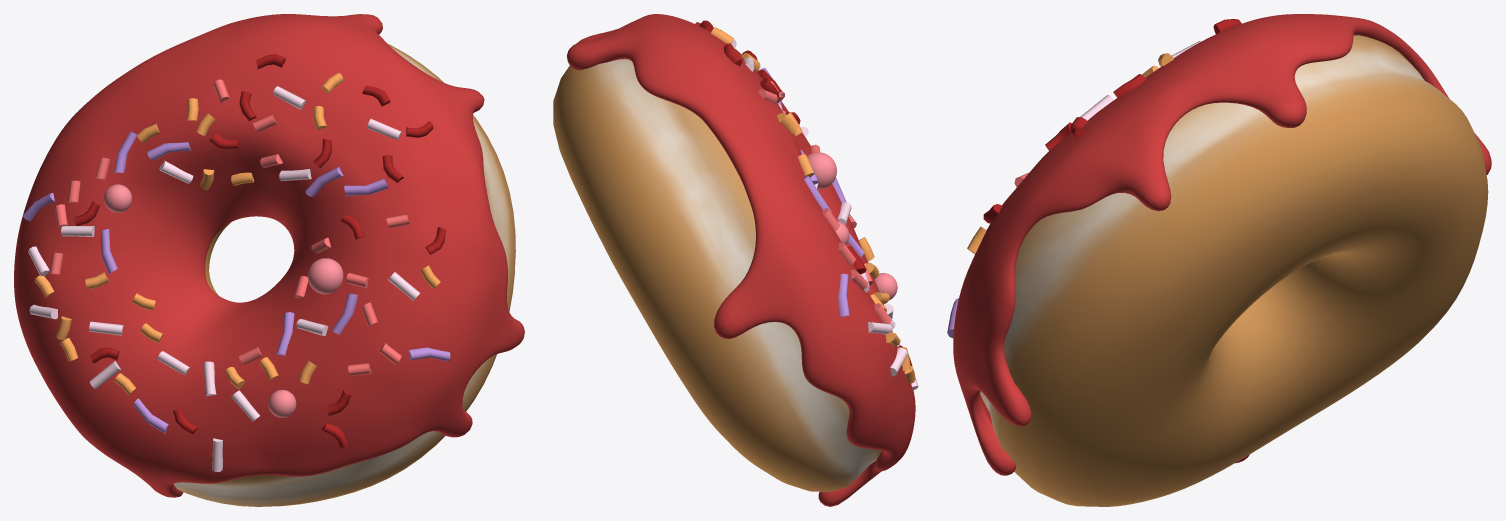
File: donutSprinkles.glb
3 views of the same model, side by side, from view 1: azimuth 30°, elevation 25°; view 2: azimuth 150°, elevation 25°; view 3: azimuth 270°, elevation 25° (orthographic). The views are drawn at different scales.
Parts seen in each view (by area): view 1: Icing, Donut, Sphere.002, Sphere, Sphere.001; view 2: Donut, Icing, Sphere.002, Sphere.001, Sprinkle.058; view 3: Donut, Icing.
Part boxes in pixels (x1,y1,x2,y2): Icing: (14, 14, 524, 497); Donut: (174, 43, 515, 506); Sphere.002: (307, 258, 343, 294); Sphere: (103, 184, 132, 212); Sphere.001: (268, 389, 296, 417); Donut: (553, 59, 881, 491); Icing: (567, 14, 915, 506); Sphere.002: (807, 152, 836, 189); Sphere.001: (874, 273, 897, 300); Sprinkle.058: (838, 273, 849, 316); Donut: (980, 35, 1488, 506); Icing: (953, 14, 1491, 475).
Size of the model in its own units: 0.0821 by 0.0869 by 0.0835.
8 materials, 1 textured.
